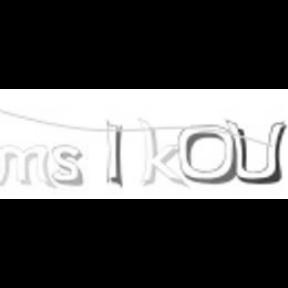I: (100, 118, 126, 190)
O: (175, 119, 239, 185)
U: (224, 116, 286, 184)
k: (134, 114, 190, 190)
m: (0, 144, 52, 190)
s: (50, 142, 84, 188)
